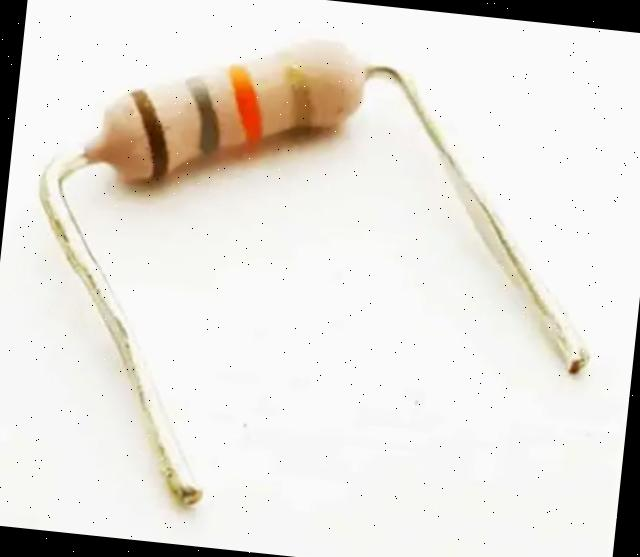black: (186, 73, 224, 154)
brown: (128, 86, 168, 177)
gold: (276, 46, 313, 129)
orange: (226, 60, 267, 141)
resistor: (69, 16, 390, 204)
